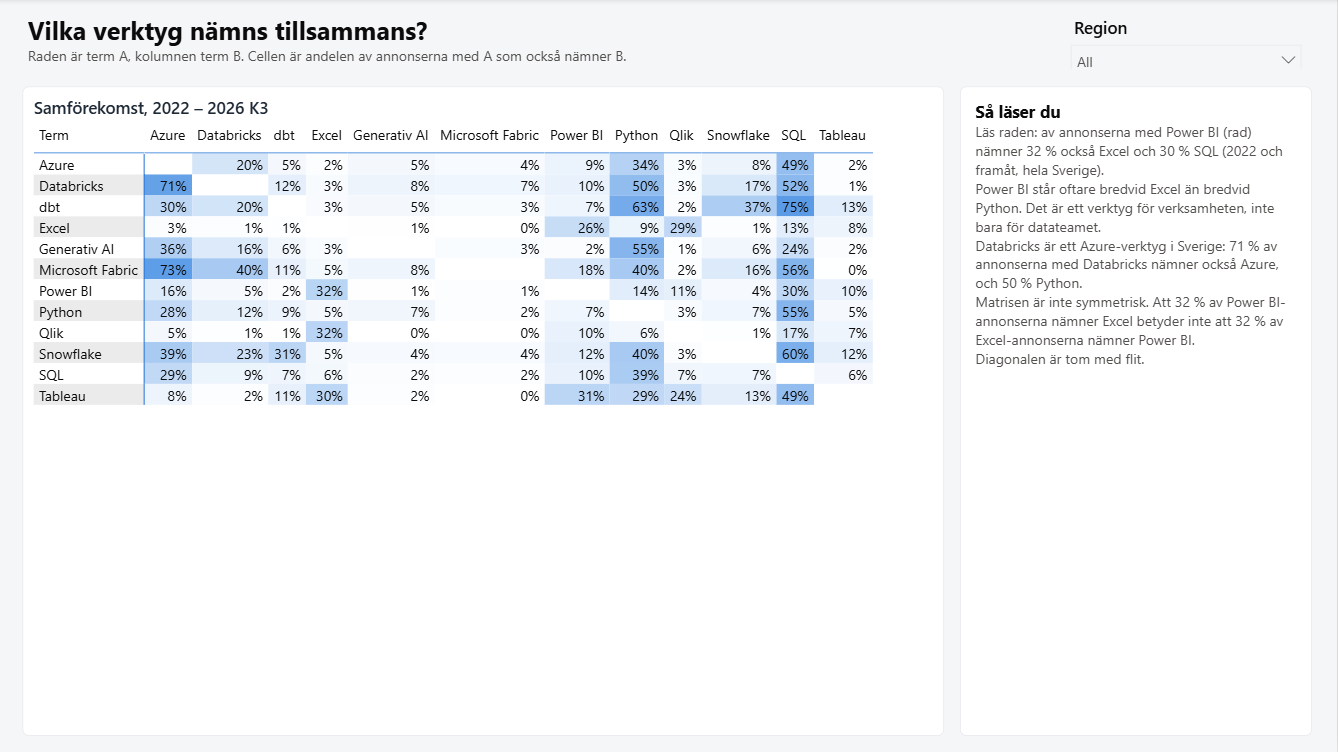

What the dashboard file says about the page in this screenshot:
{"tool":"powerbi","page":{"name":"Kombinationer","canvas":[1280,720],"ordinal":2},"visuals":[{"type":"textbox","box":[24,8,900,64],"z":0},{"type":"slicer","fields":{"Values":["Län.Region"]},"box":[1016,12,240,56],"z":1},{"type":"pivotTable","title":"Samförekomst, 2022 – 2026 K3","fields":{"Columns":["Term B.Term B"],"Rows":["Term.Term"],"Values":["Mått.Samförekomst"]},"box":[24,84,880,620],"z":2},{"type":"textbox","box":[920,84,336,620],"z":3}]}

Visuals, with their boxes in screenshot pixels (x1, y1, x2, y2), scaled from the page's 1280x720 canvas onto the 1338x752 screenshot:
textbox: select_region(25, 8, 966, 75)
slicer - Län.Region: select_region(1062, 13, 1313, 71)
"Samförekomst, 2022 – 2026 K3" pivotTable: select_region(25, 88, 945, 735)
textbox: select_region(962, 88, 1313, 735)
